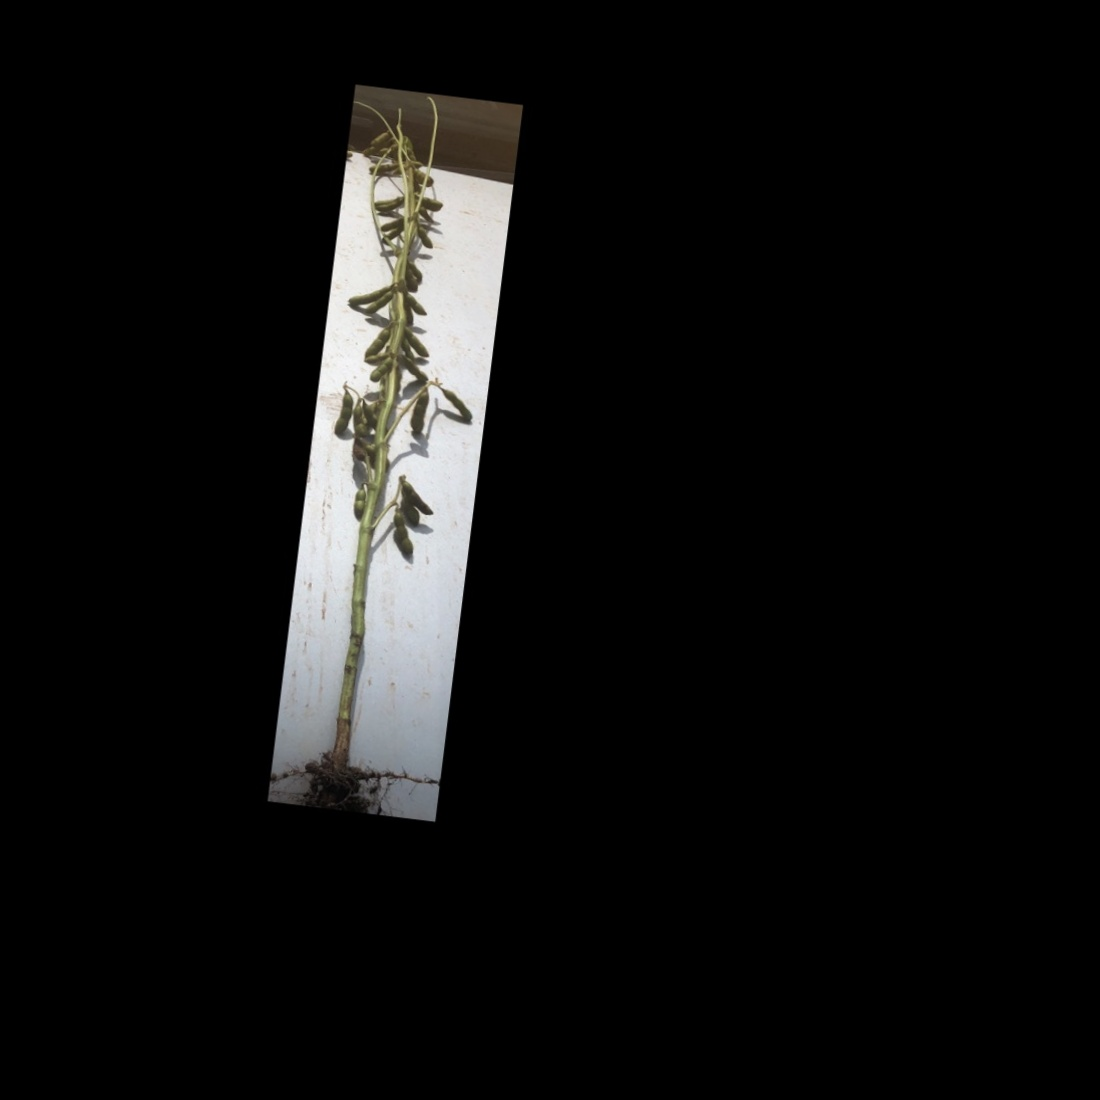pod: (433, 386, 475, 423), (390, 508, 417, 559), (329, 390, 356, 439), (408, 385, 430, 434), (397, 356, 430, 383), (367, 357, 393, 386), (411, 224, 437, 251), (350, 485, 368, 519), (404, 261, 427, 280), (368, 127, 388, 147), (399, 338, 415, 361)
soy: (271, 97, 511, 798)
